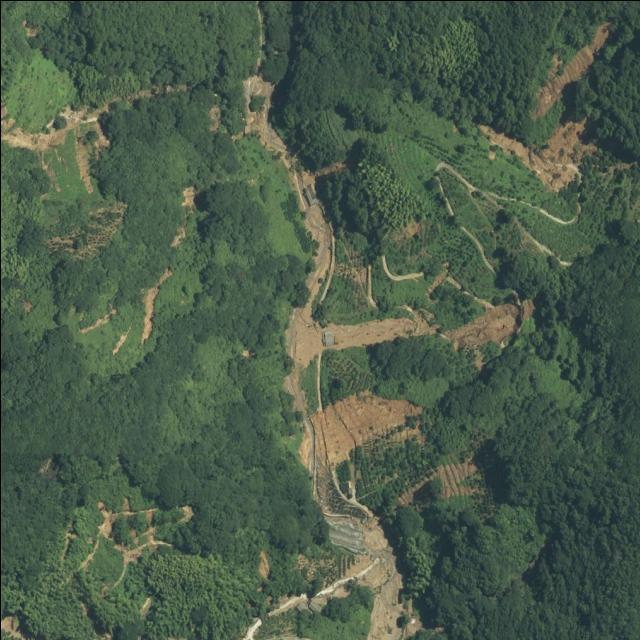landslide: (241, 72, 533, 640), (77, 498, 193, 591), (0, 102, 108, 191), (481, 119, 591, 191), (534, 24, 607, 113), (48, 201, 124, 257), (139, 268, 171, 344), (96, 501, 117, 539)
